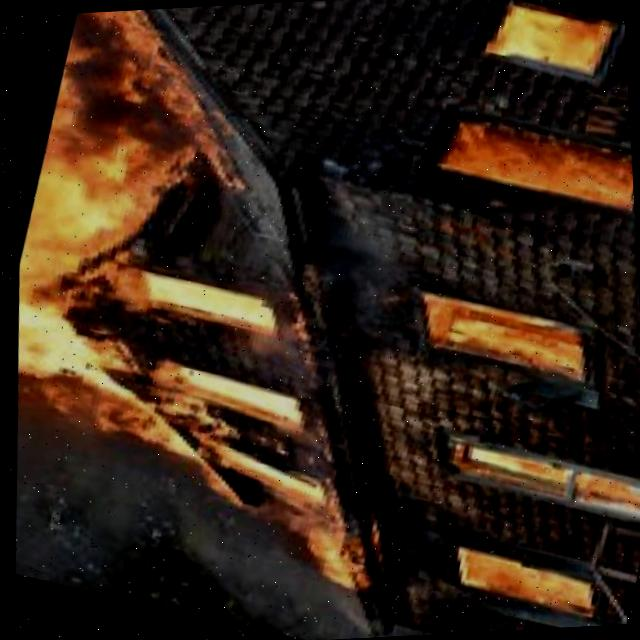fire: (0, 1, 309, 466), (403, 106, 636, 254), (406, 285, 594, 392), (440, 533, 608, 625), (286, 501, 407, 614), (471, 0, 613, 89)
